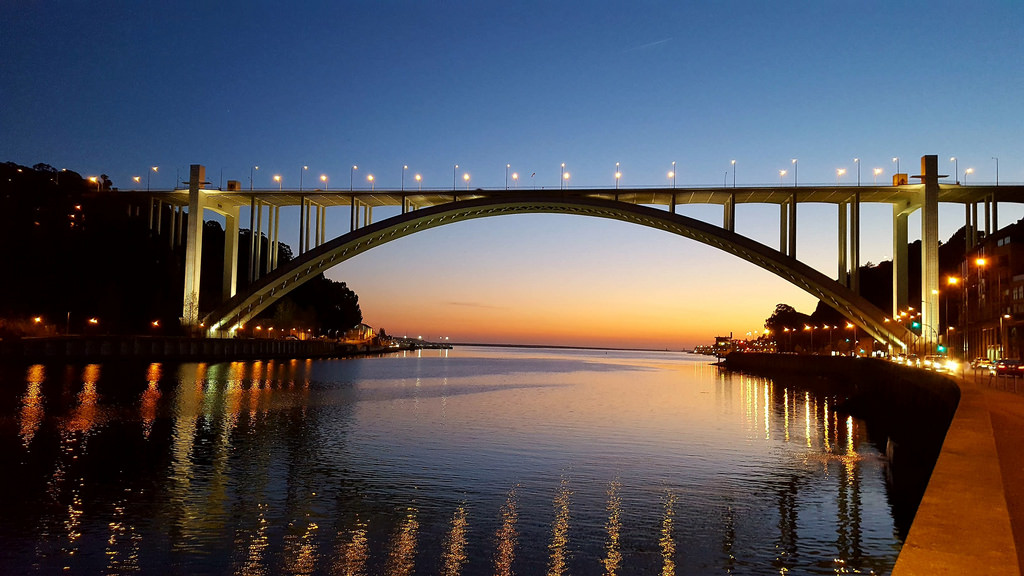arrabida: (113, 153, 1023, 357)
